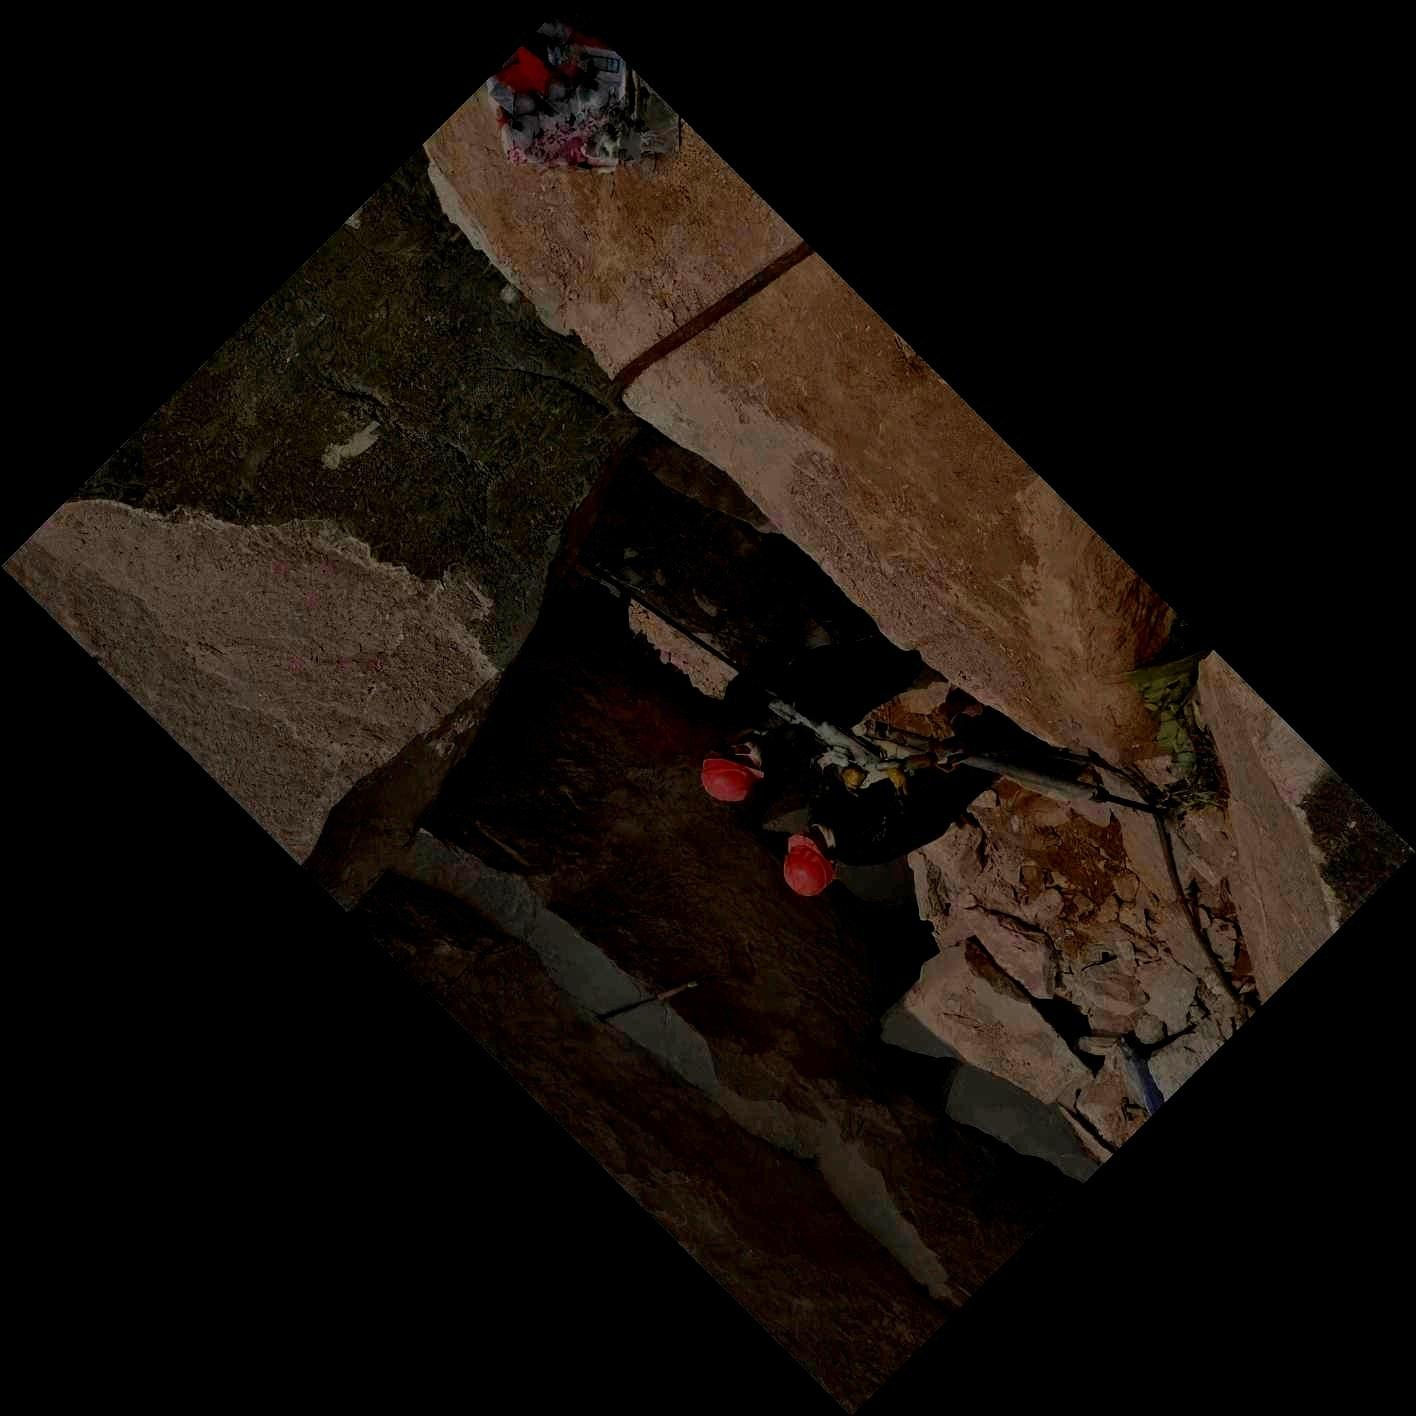helmet: (699, 737, 765, 803), (782, 823, 840, 896)
